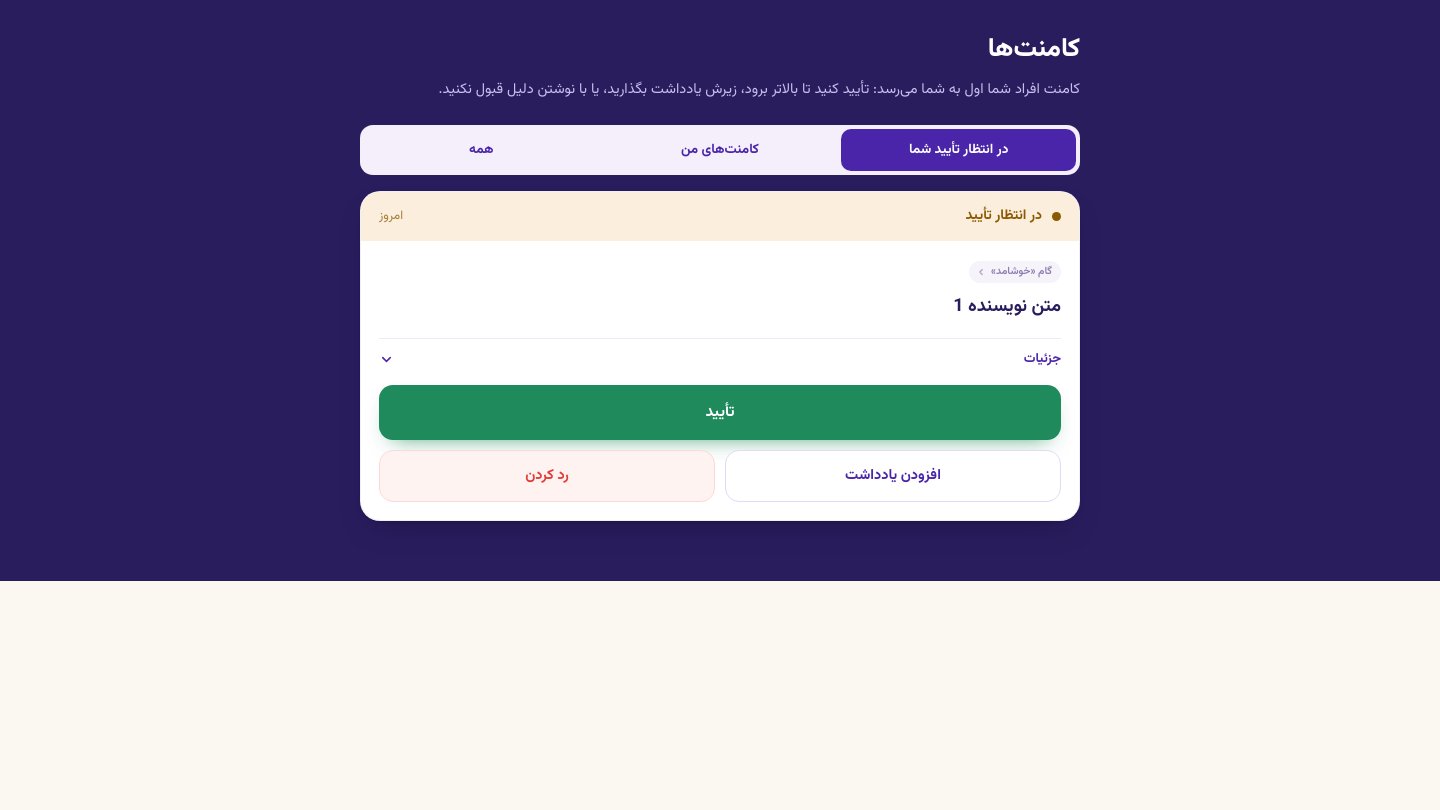
Scenario: reader inbox › gives an approver three tabs, opens on the waiting one, and offers «تأیید»
Check: the text "متن نویسنده 1" is shown, box [953,293,1061,321]
Check: the tabs read "در انتظار تأیید شما", "کامنت‌های من", "همه", in this order, box [841,129,1076,171]; [603,129,837,171]; [364,129,599,171]
Click the button "جزئیات" at (1042, 359), box [379,338,1061,369]
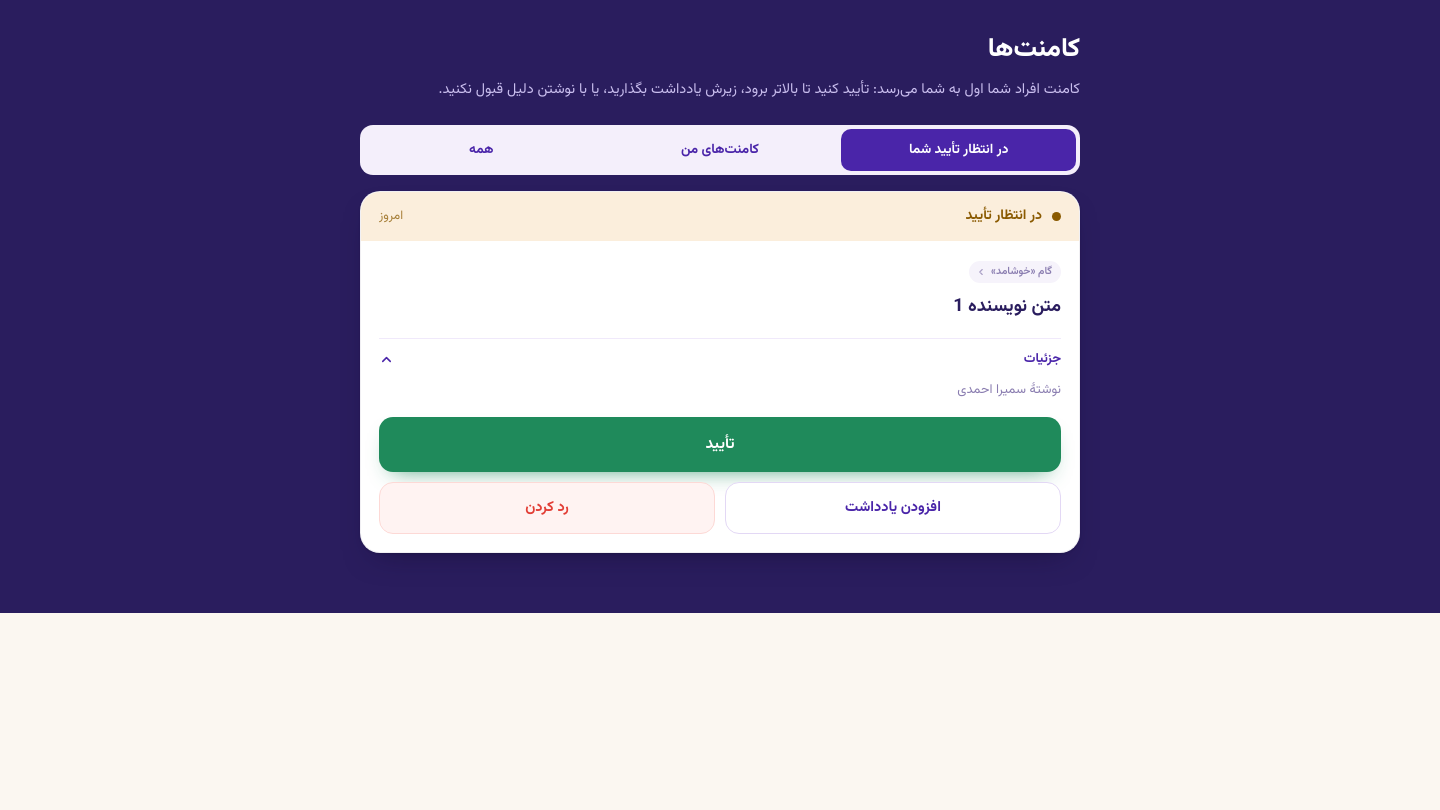
Check: the text "کامنت افراد شما اول به شما می‌رسد" is shown, box [438,78,1080,101]
Check: the text "نوشتهٔ سمیرا احمدی" is shown, box [957,380,1061,400]
